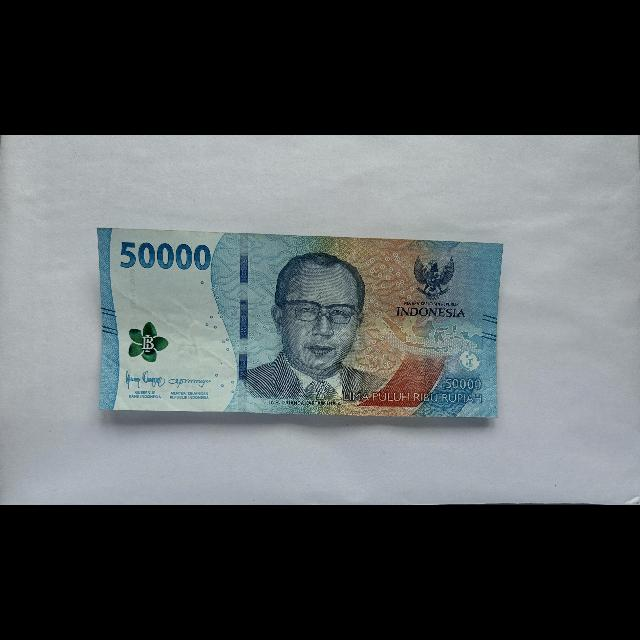Asli-50k: (96, 226, 505, 420)
Tinta-Asli-50k: (128, 321, 170, 364)
